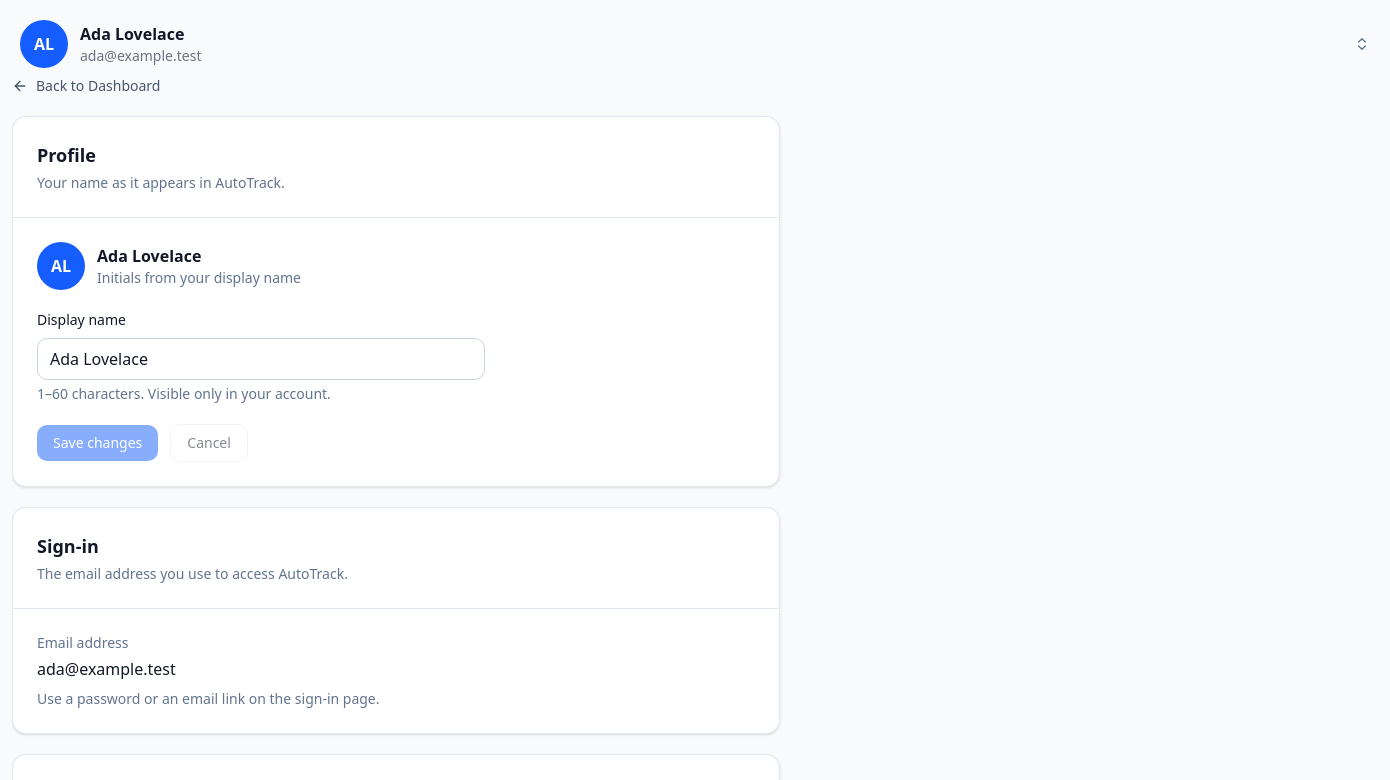
Scenario: account settings › preserves an unsuccessful edit and blocks navigation when declined
This screenshot has width=1390, height=780.
Replace the text in the field labelled "Display name" with "Unsaved name": (261, 359) 37,338 -> 485,380
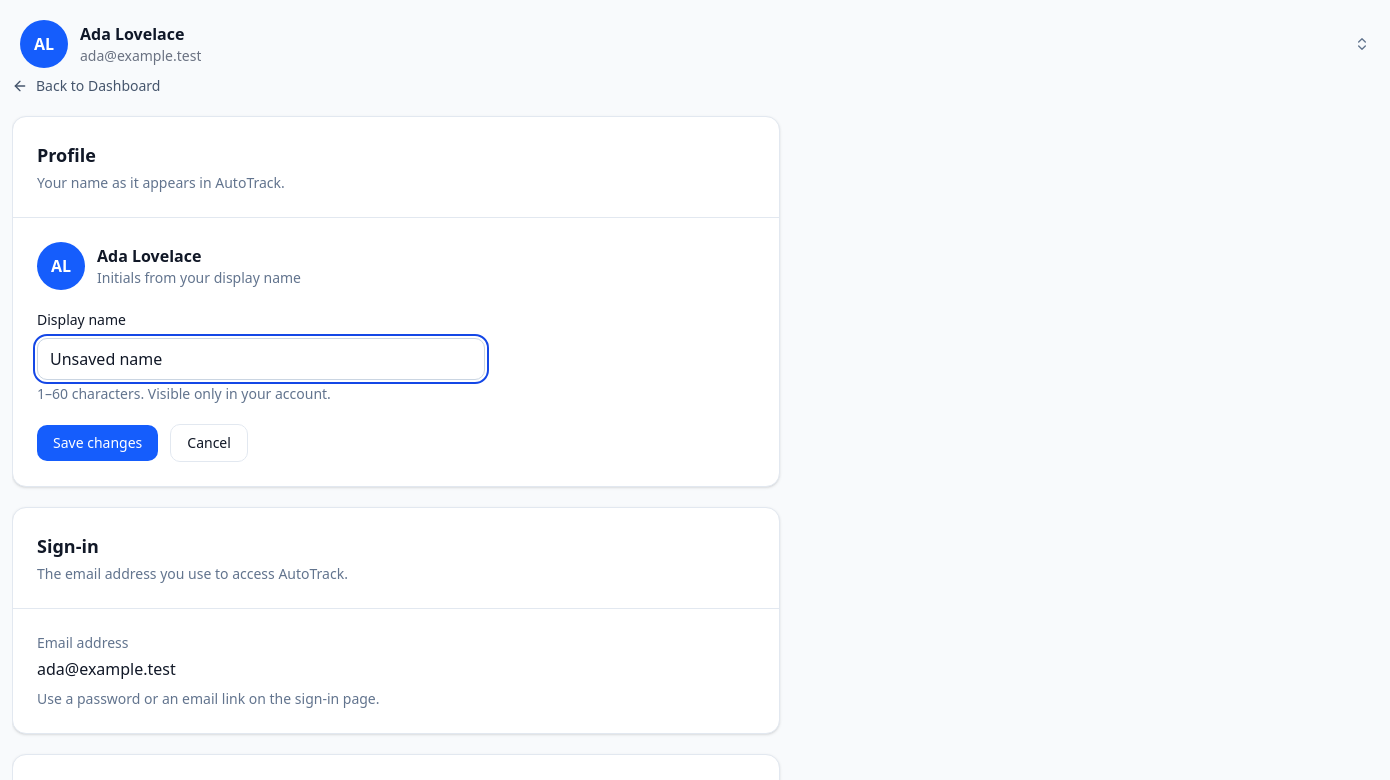
Click the link "Back to Dashboard": click(86, 86) 12,76 -> 160,96
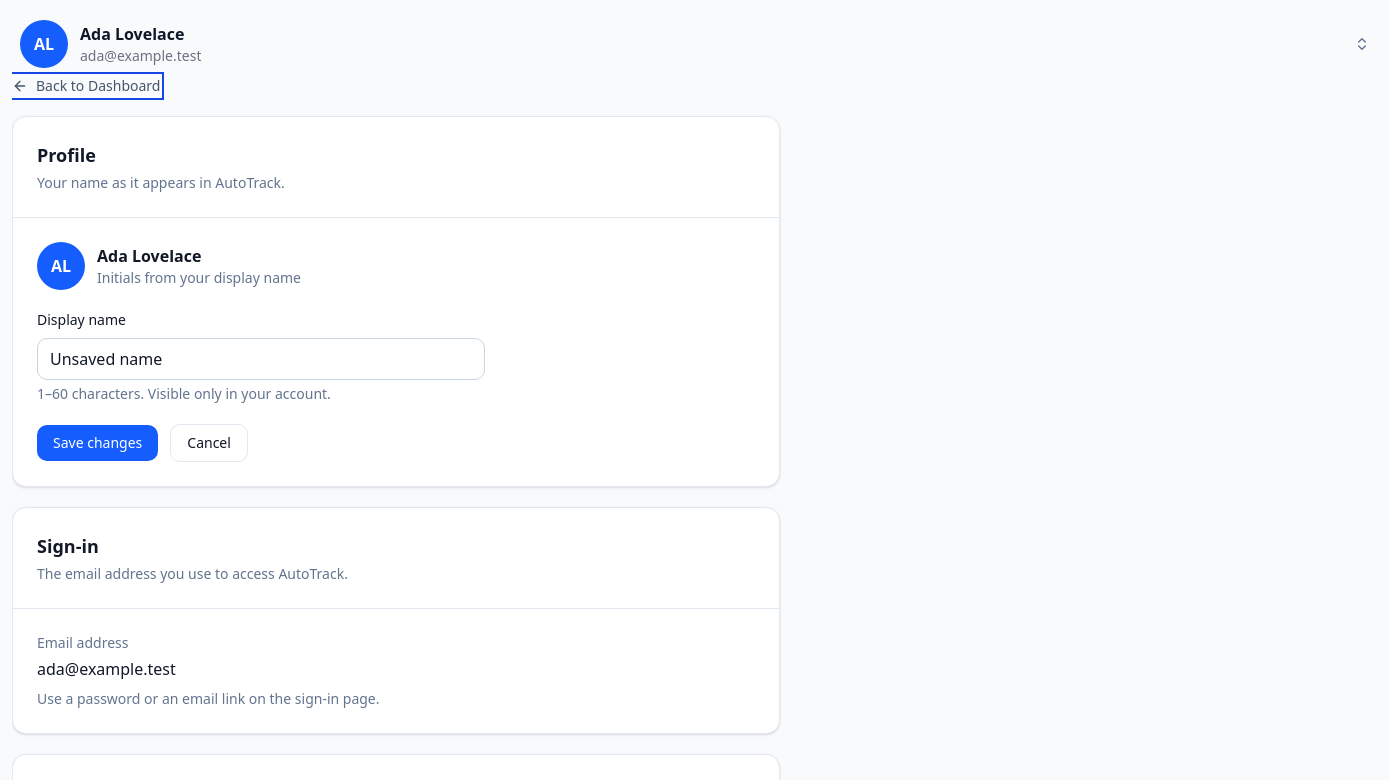
Click the button "Save changes": click(98, 443) 37,425 -> 158,461
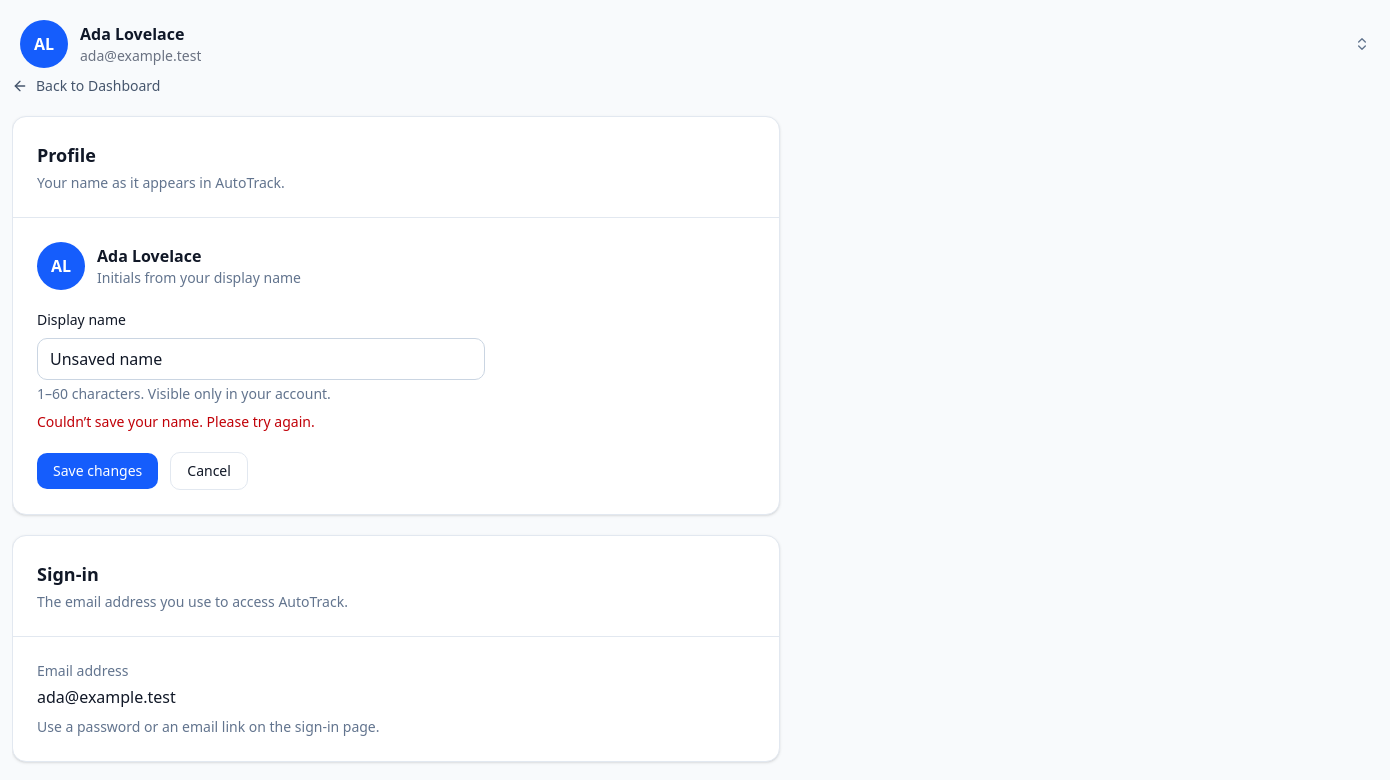
Expected: the message shows "Couldn’t save", 37,412 -> 315,431
